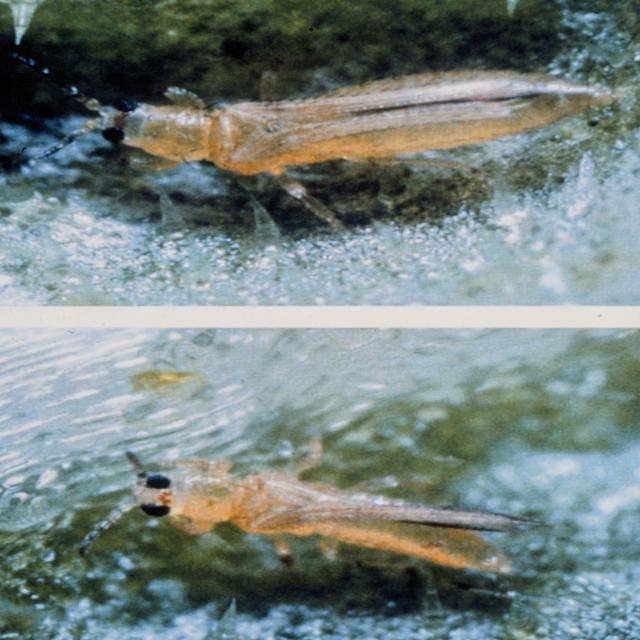Thrip-Adult-: (75, 426, 557, 587), (76, 46, 603, 190)
